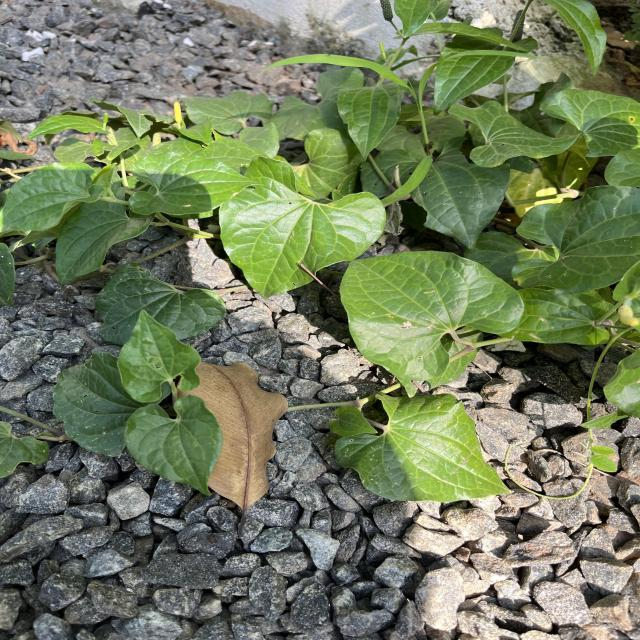Piper longum: (216, 154, 388, 302), (338, 249, 526, 382), (332, 391, 516, 504)
